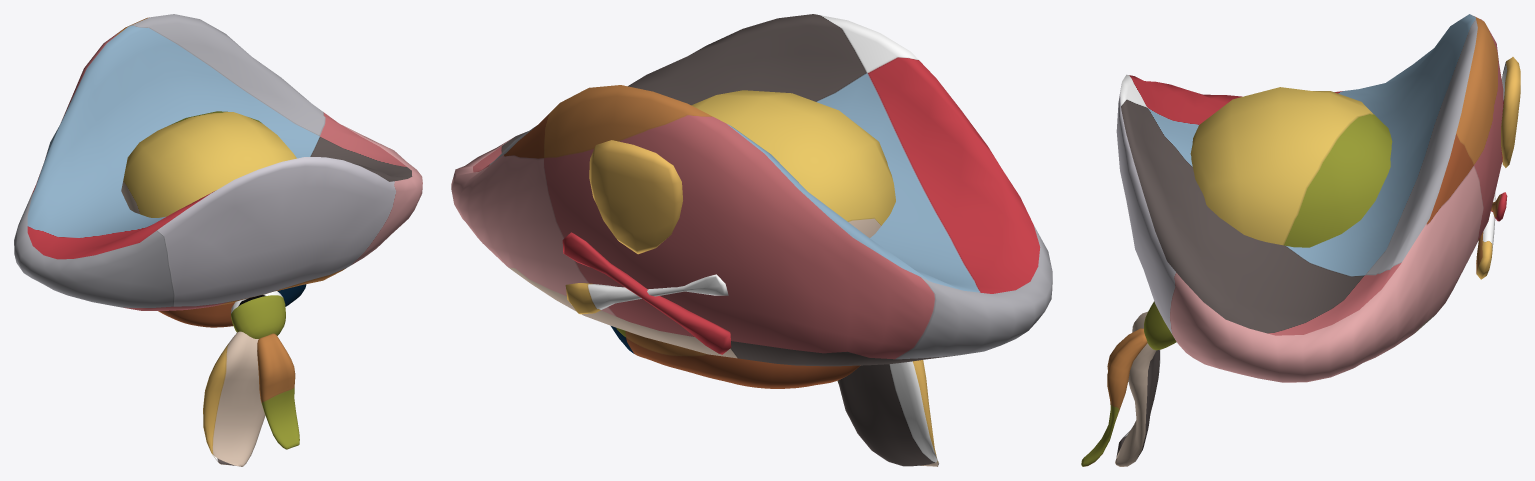
File: Hat_Pirate.fbx
The picture shows the model from 3 angles, left to right: view 1: azimuth 30°, elevation 25°; view 2: azimuth 150°, elevation 25°; view 3: azimuth 270°, elevation 25°; orthographic projection. The views are drawn at different scales.
Parts seen in each view (by area): view 1: Hat_Pirate; view 2: Hat_Pirate; view 3: Hat_Pirate.
Part boxes in pixels (left/top/right/bottom): Hat_Pirate: left=14, top=14, right=422, bottom=466; Hat_Pirate: left=451, top=14, right=1052, bottom=466; Hat_Pirate: left=1081, top=14, right=1520, bottom=466.
Size of the model in its own units: 108 by 91.06 by 78.19.
